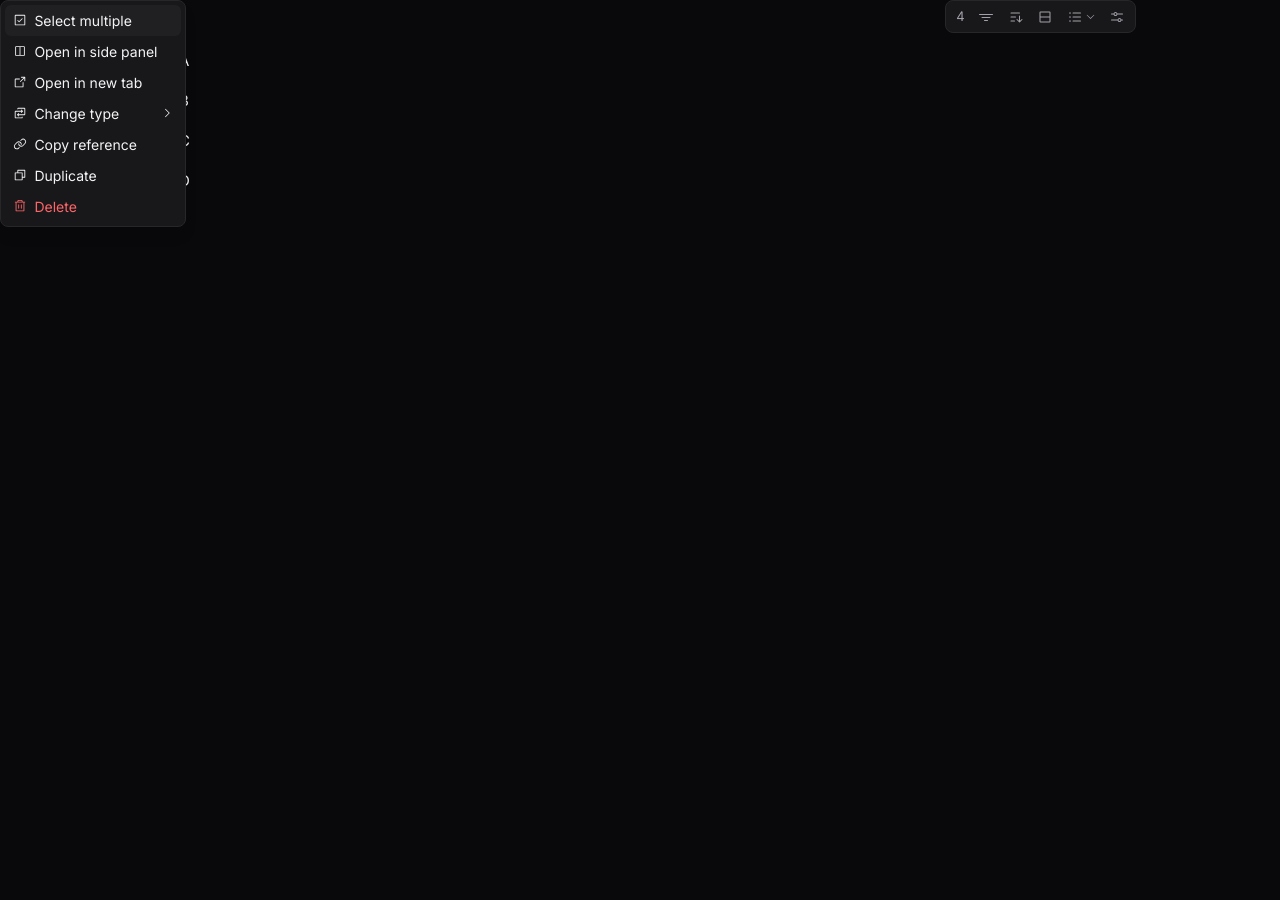
Test case: DataView multi-select (Task 18) › test bulk delete confirms with count string
Click the menu item "Select multiple".
click(93, 20)  # box [5,5,181,36]
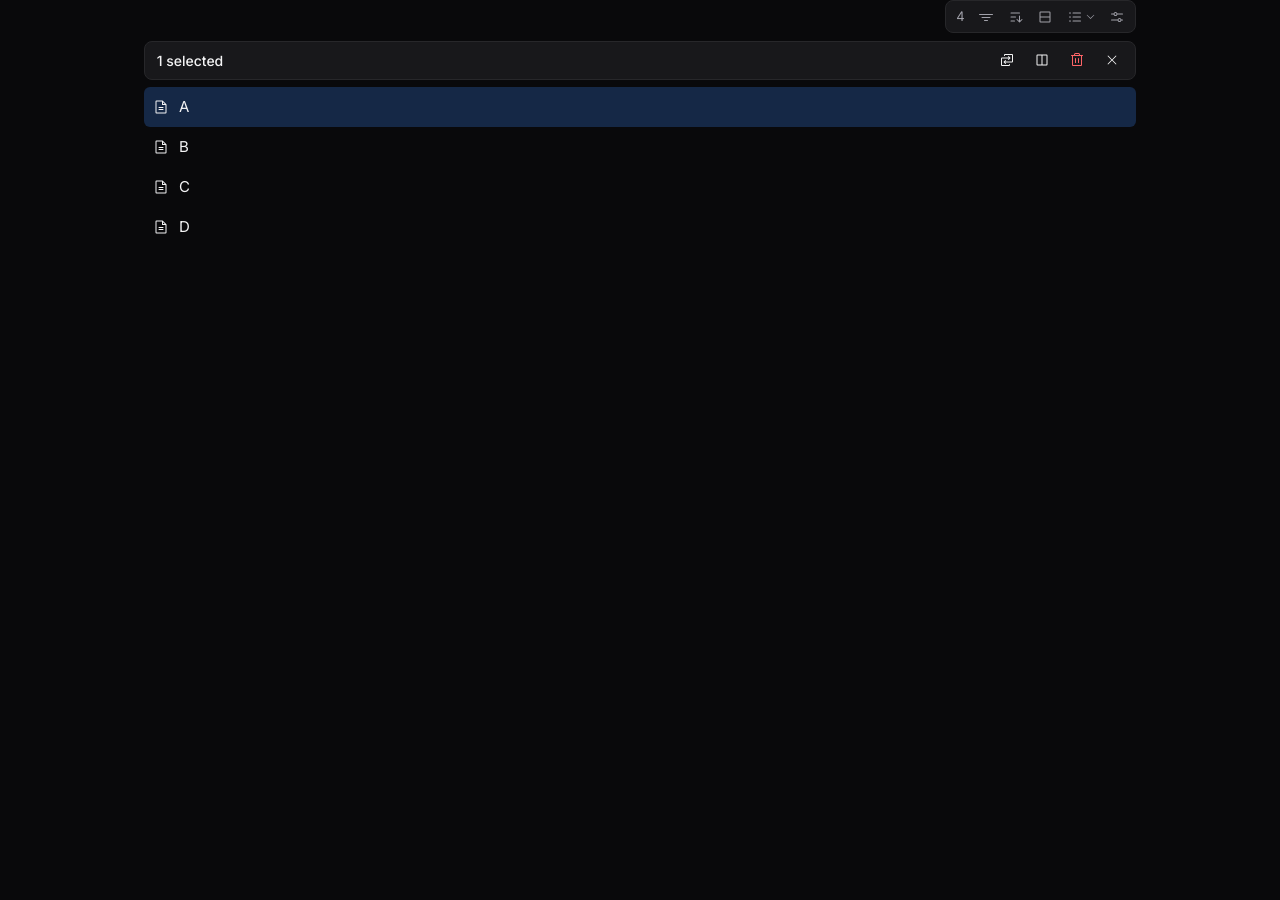
Click the button "B".
click(161, 147)  # box [144,127,1136,167]
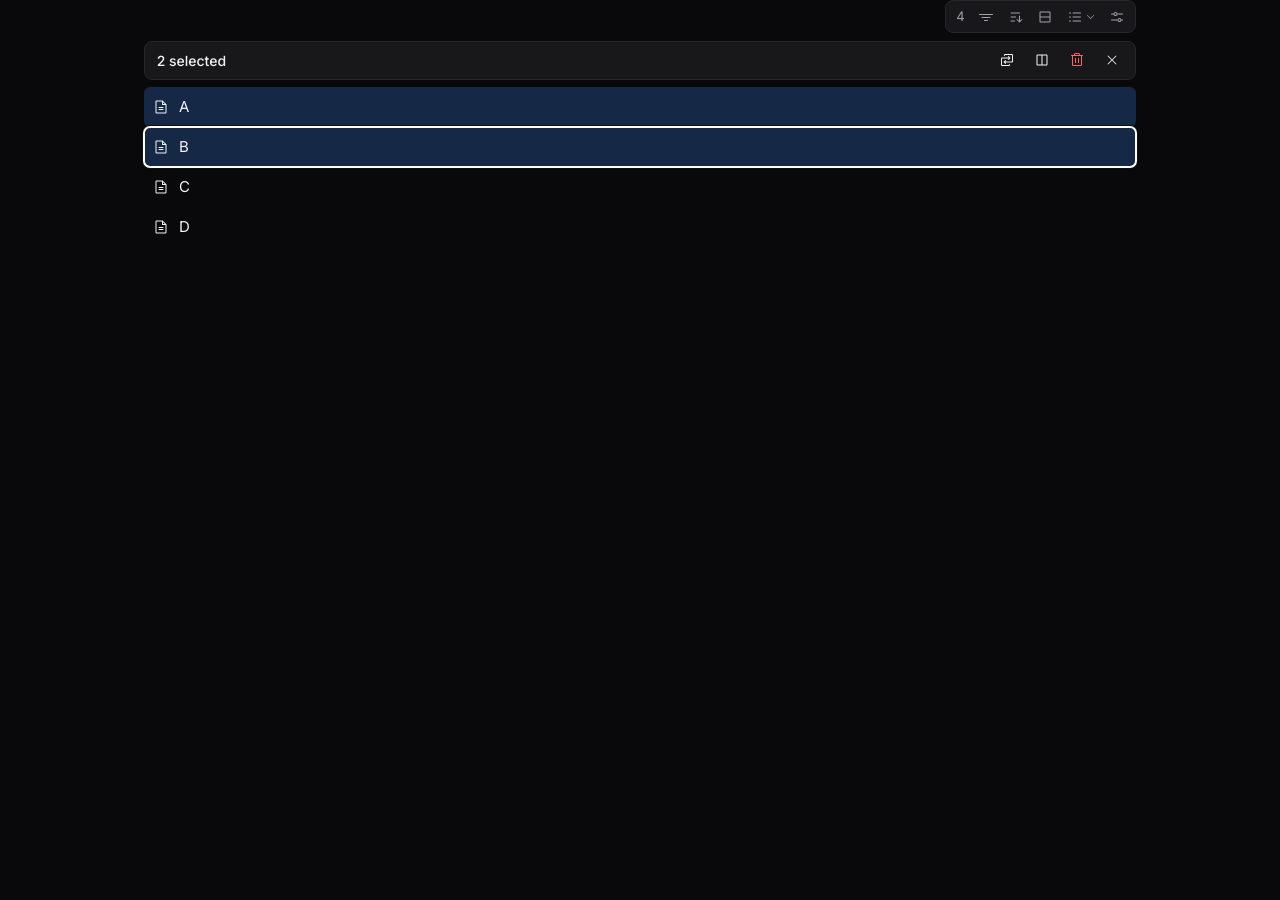
Click the button named "Delete".
click(1077, 60)  # box [1061,45,1092,76]
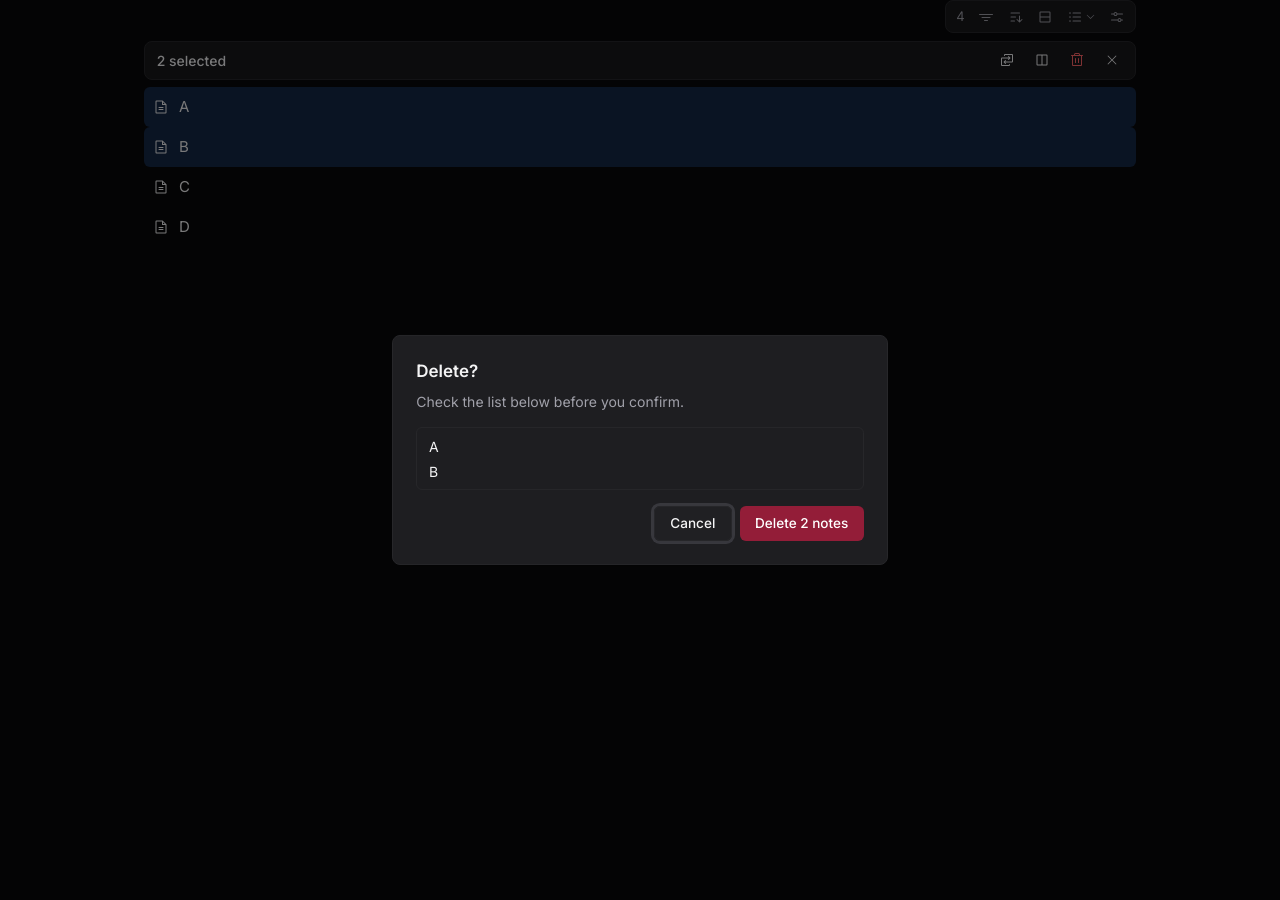
expect the heading "Delete?" is shown: met, box [416,359,478,385]
expect the text "Check the list below before you confirm." is shown: met, box [416,390,684,412]
expect the list items read "A", "B", in this order: met, box [429,438,439,455]; [429,463,438,480]
Click the button "Delete 2 notes".
click(802, 523)  # box [740,506,864,541]
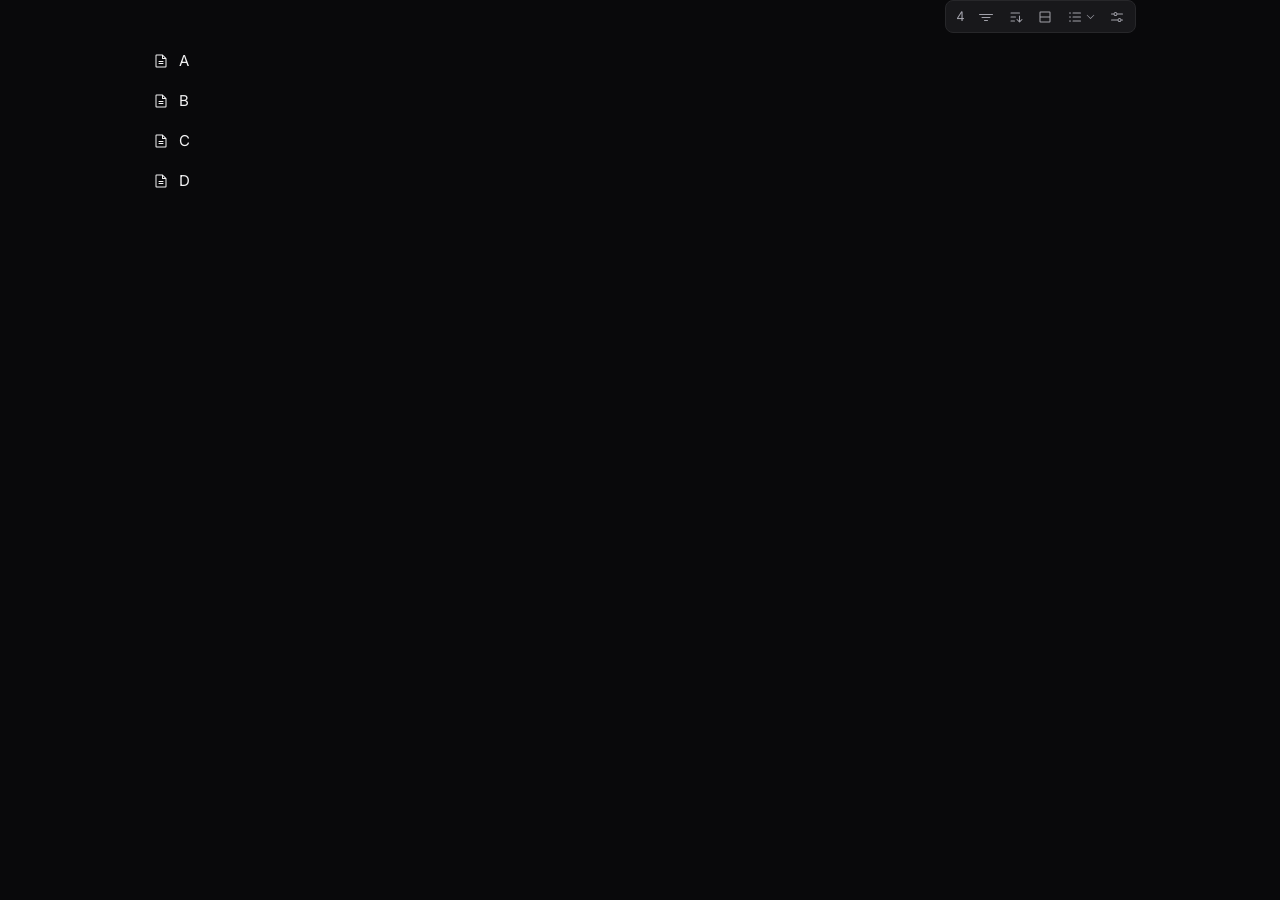
expect the element with test id "selection-bar" is gone: met
